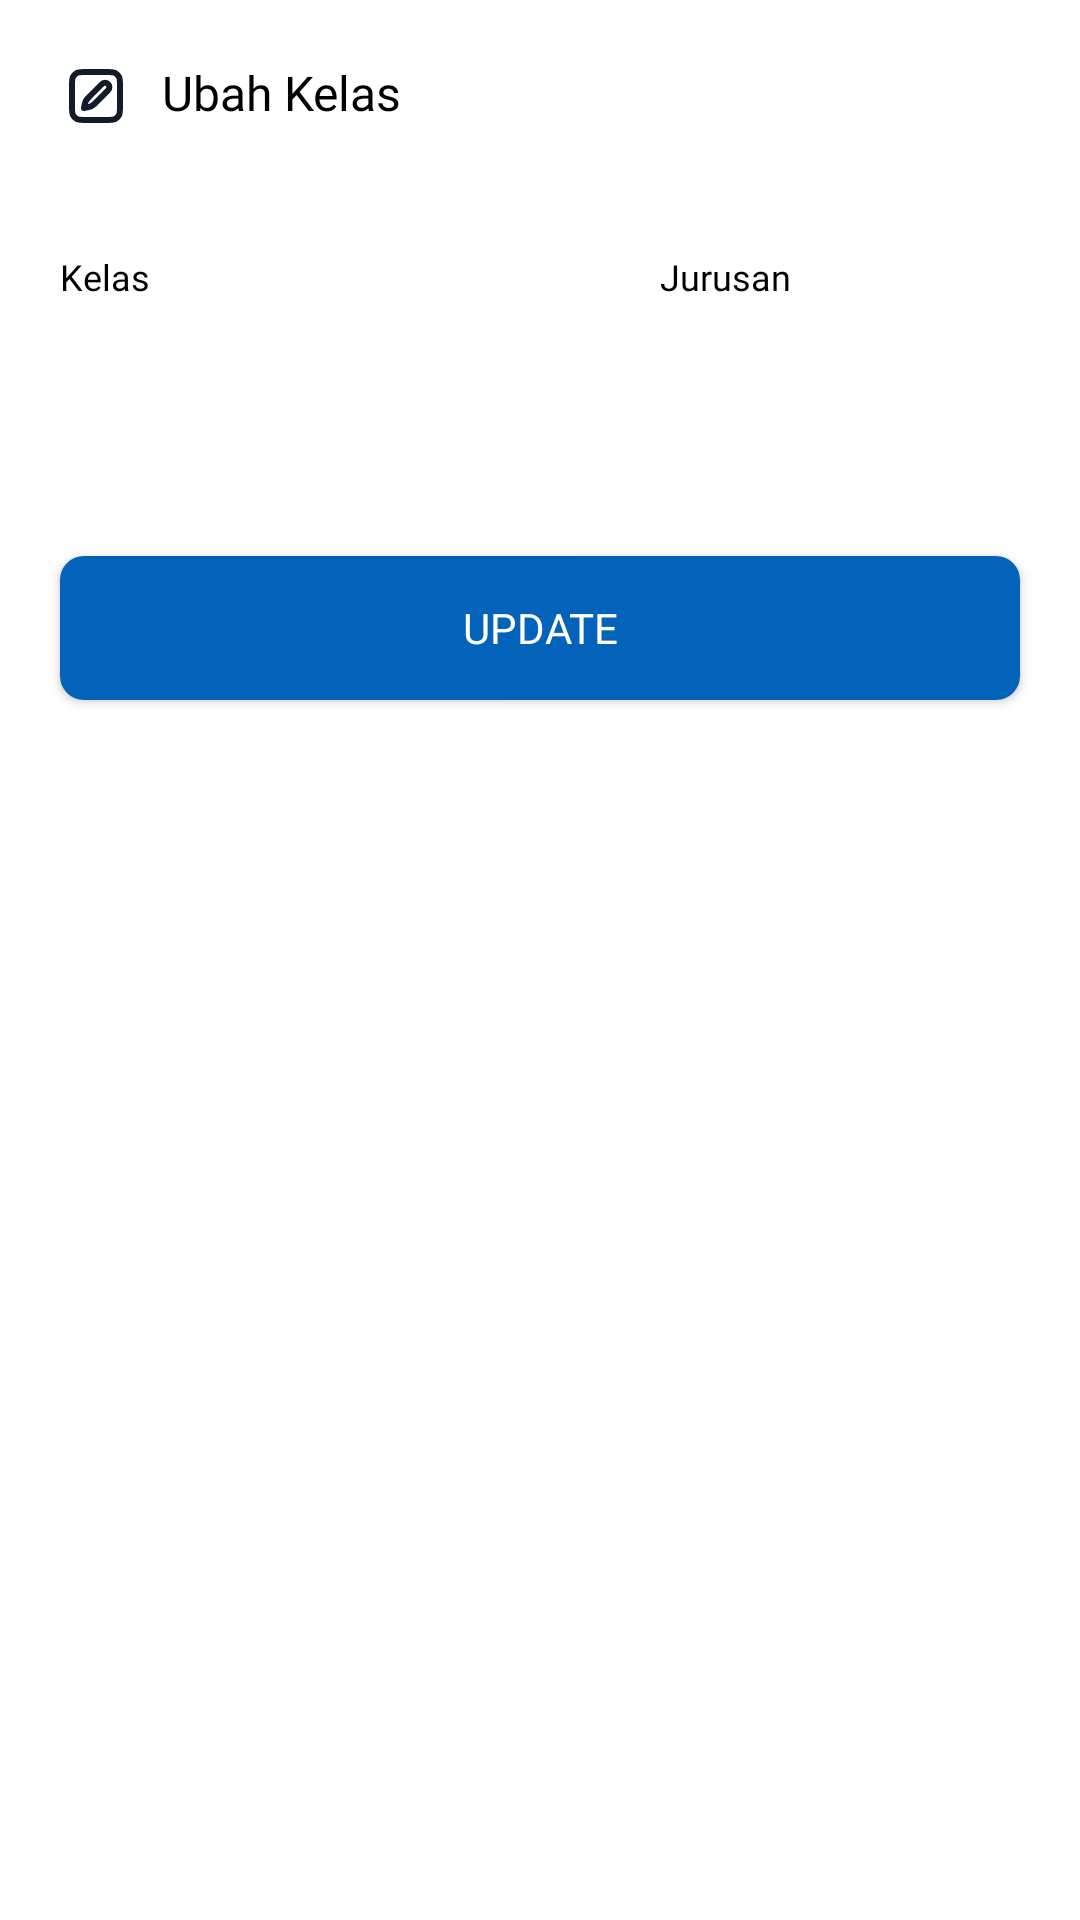

Icon click points for this 1080x1920 phone screenshot, format (x=x, y=y):
square pen: (x=96, y=96)
